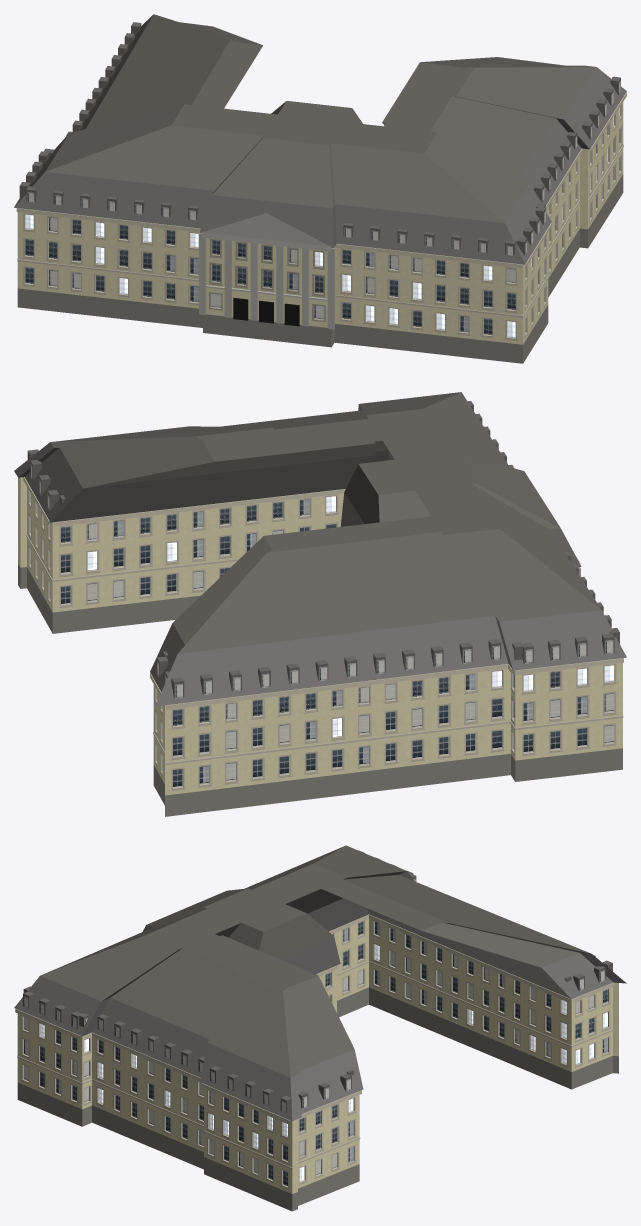
The model's file is bezirksgebaeude.glb.
3 renders of one model, top to bottom at view 1: azimuth 30°, elevation 25°; view 2: azimuth 150°, elevation 25°; view 3: azimuth 270°, elevation 25°, orthographic. The views are drawn at different scales.
Parts seen in each view (by area): view 1: bezirksgebaeude; view 2: bezirksgebaeude; view 3: bezirksgebaeude.
Part boxes in pixels (box(x1,y1,x2,y2)): bezirksgebaeude: box(14, 14, 626, 363); bezirksgebaeude: box(14, 392, 626, 816); bezirksgebaeude: box(14, 845, 626, 1211).
Size of the model in its own units: 105 by 28.84 by 106.
Materials: 3 (3 with a texture image).
